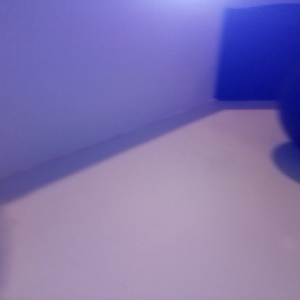dead_ball: (279, 64, 300, 146)
